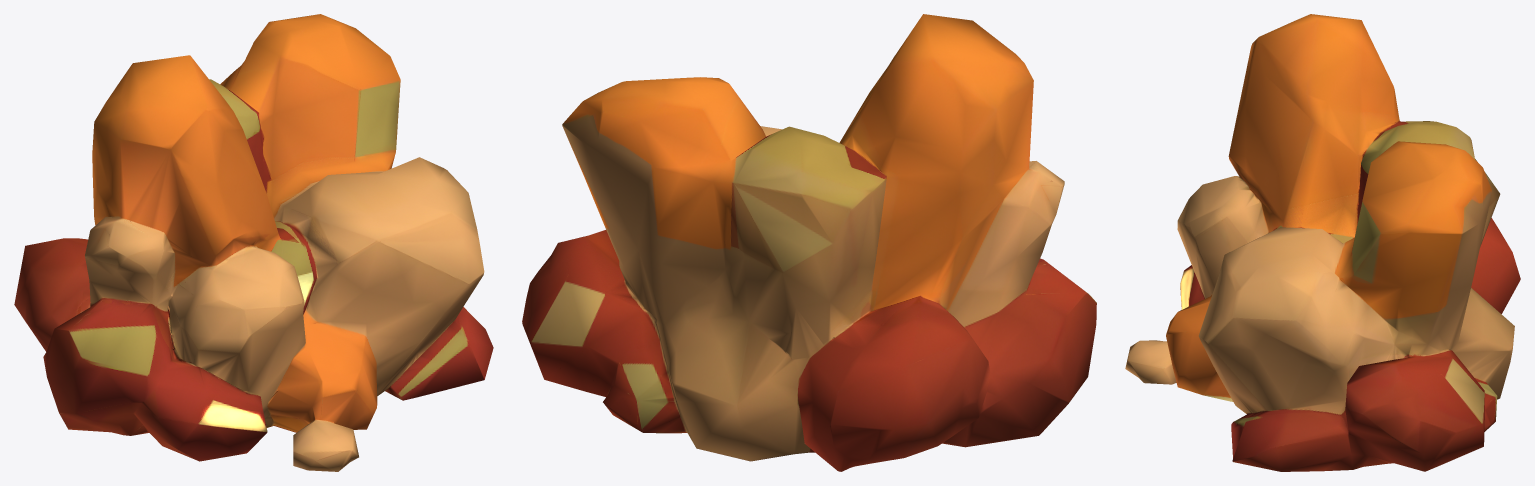
The model's file is irrhakur_stone_1.glb.
The picture shows the model from 3 angles, left to right: view 1: azimuth 30°, elevation 25°; view 2: azimuth 150°, elevation 25°; view 3: azimuth 270°, elevation 25°; orthographic projection. The views are drawn at different scales.
Visible parts, largest first — view 1: Mesh_0; view 2: Mesh_0; view 3: Mesh_0.
Boxes of the visible parts, <box> form: Mesh_0: <box>14,14,493,471</box>; Mesh_0: <box>522,14,1096,471</box>; Mesh_0: <box>1125,14,1520,471</box>.
Size of the model in its own units: 1.91 by 1.45 by 1.58.
1 material, 1 textured.
